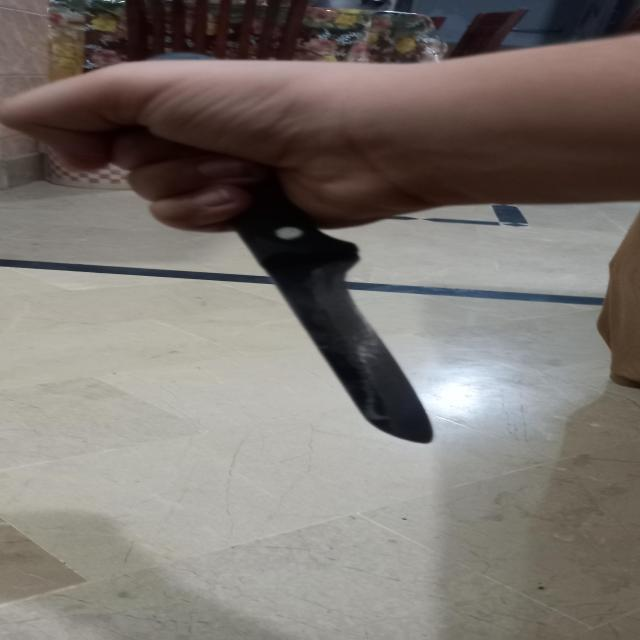Knife: (194, 168, 440, 446)
Person: (6, 34, 640, 230)
